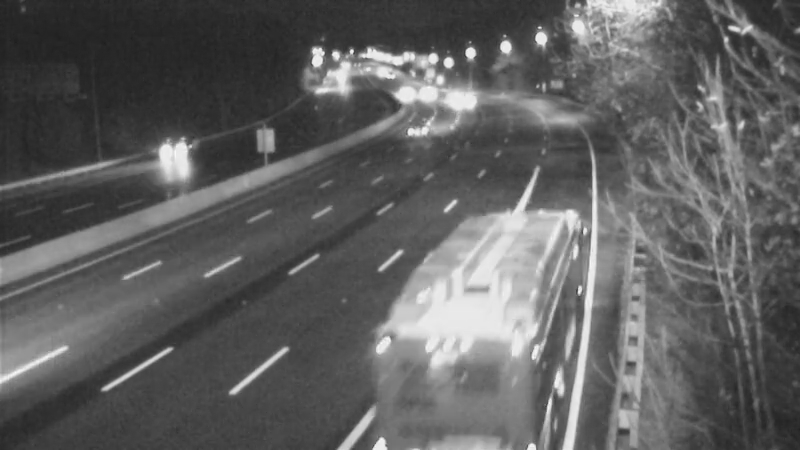vehicle: (436, 244, 516, 324), (130, 112, 210, 192), (365, 50, 415, 100), (403, 67, 453, 117), (379, 72, 429, 122), (429, 68, 479, 118), (435, 77, 485, 127), (393, 104, 443, 154)
